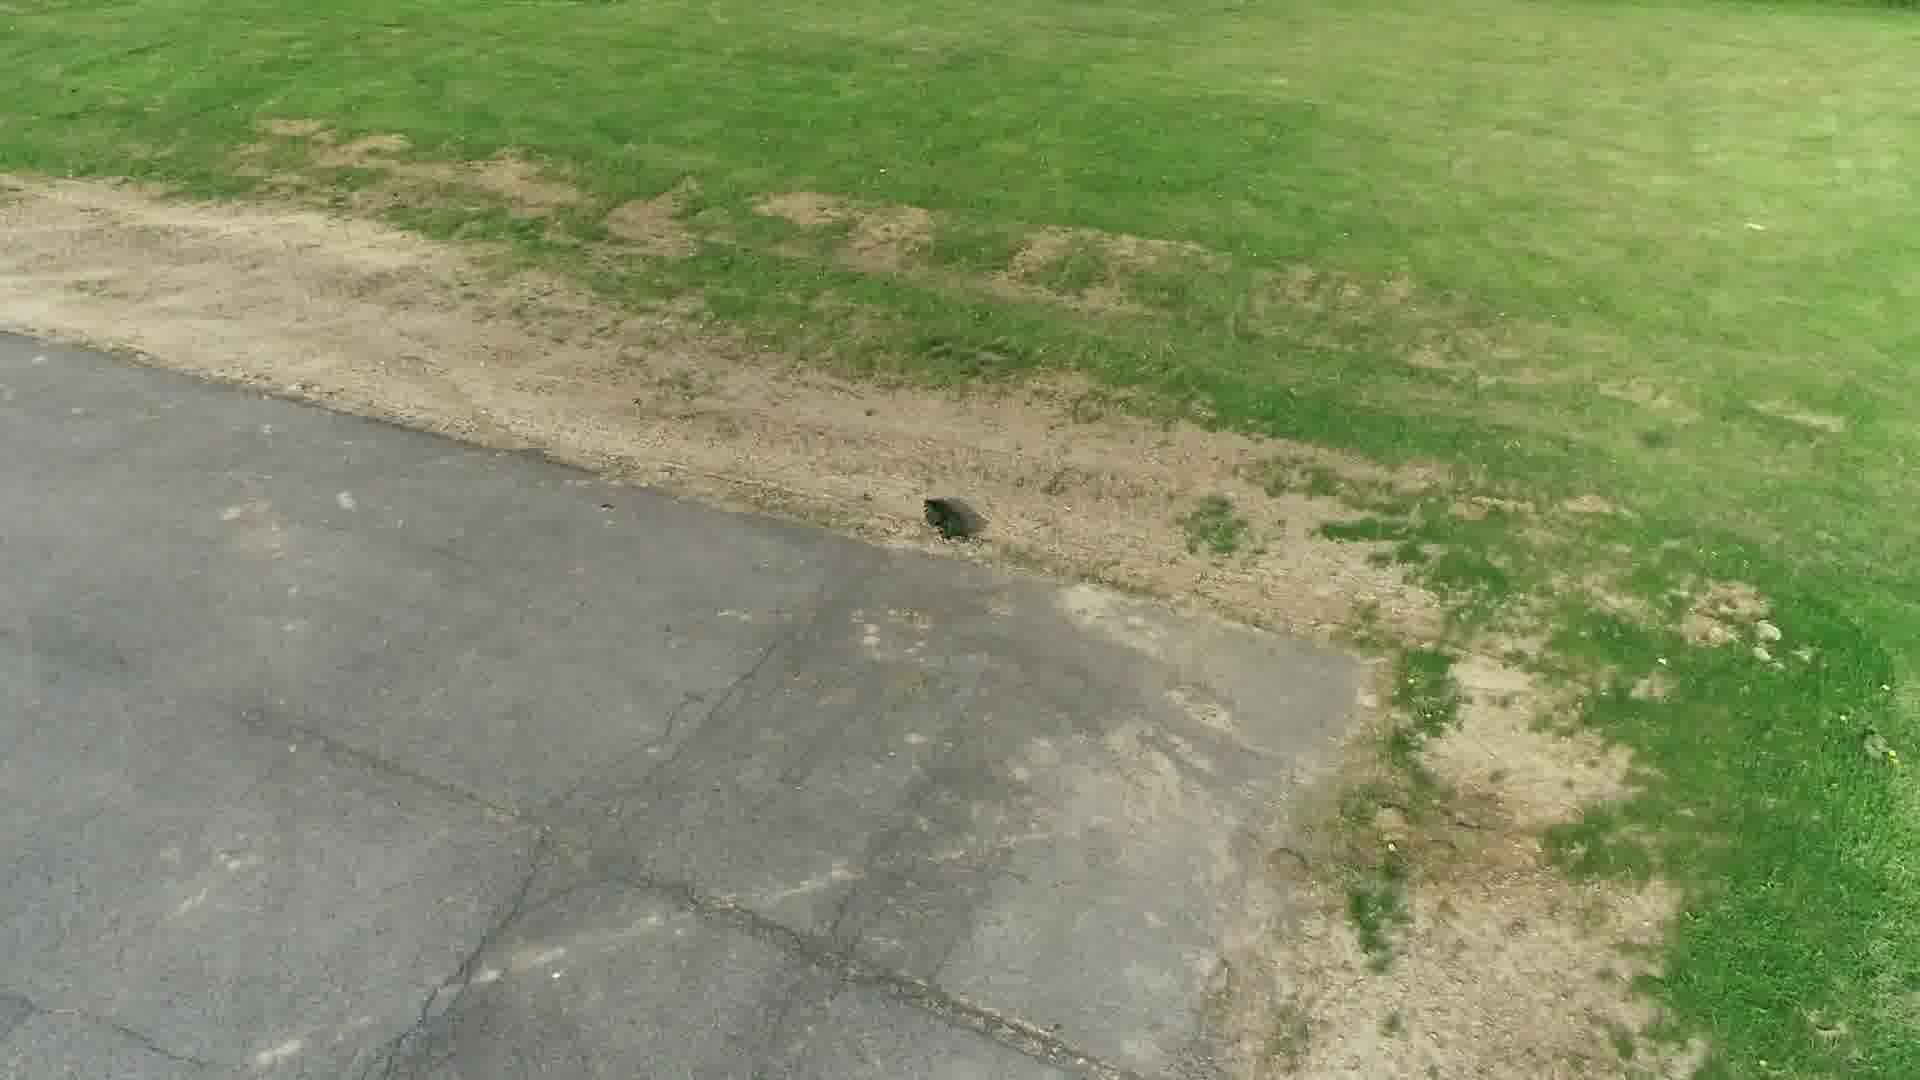transporter9: (922, 496, 977, 543)
